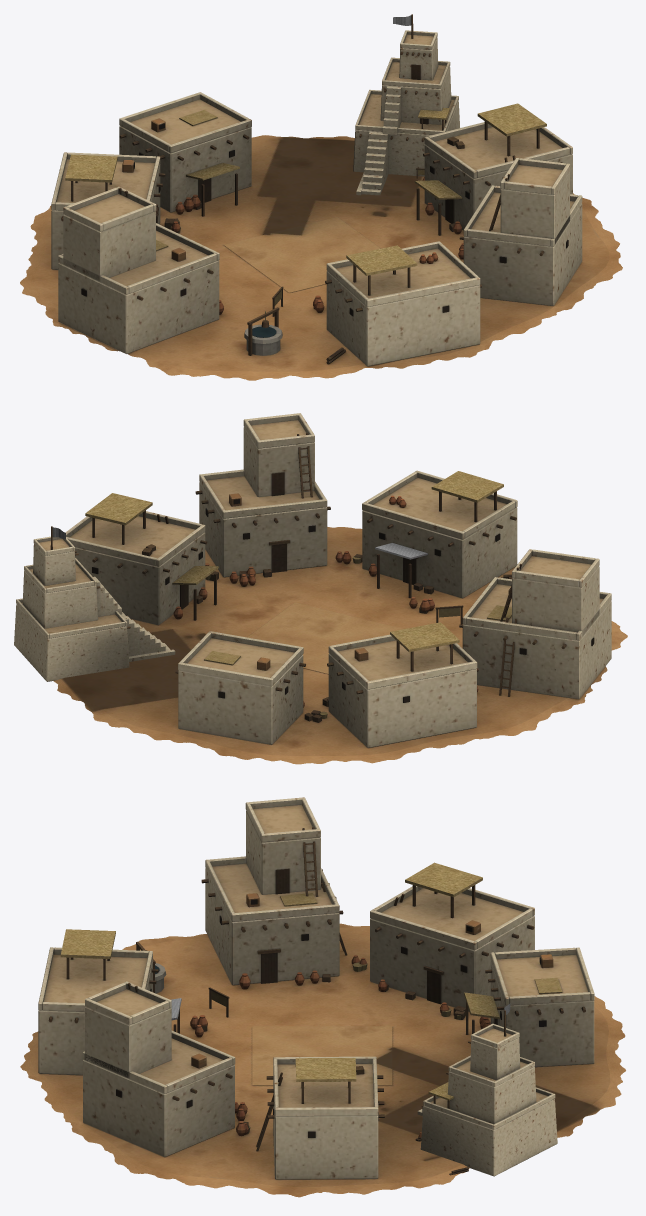
The model's file is bronze-town-small-a-7e9cc76d.glb.
The picture shows the model from 3 angles, top to bottom: view 1: azimuth 30°, elevation 25°; view 2: azimuth 150°, elevation 25°; view 3: azimuth 270°, elevation 25°; orthographic projection. The views are drawn at different scales.
Parts seen in each view (by area): view 1: LOD0; view 2: LOD0; view 3: LOD0.
Boxes of the visible parts, x1=… form: LOD0: x1=20, y1=14, x2=622, y2=380; LOD0: x1=14, y1=413, x2=627, y2=764; LOD0: x1=20, y1=797, x2=625, y2=1197.
Size of what is drawn, in the model's own units: 3.98 by 0.9682 by 3.71.
3 materials, 3 textured.
